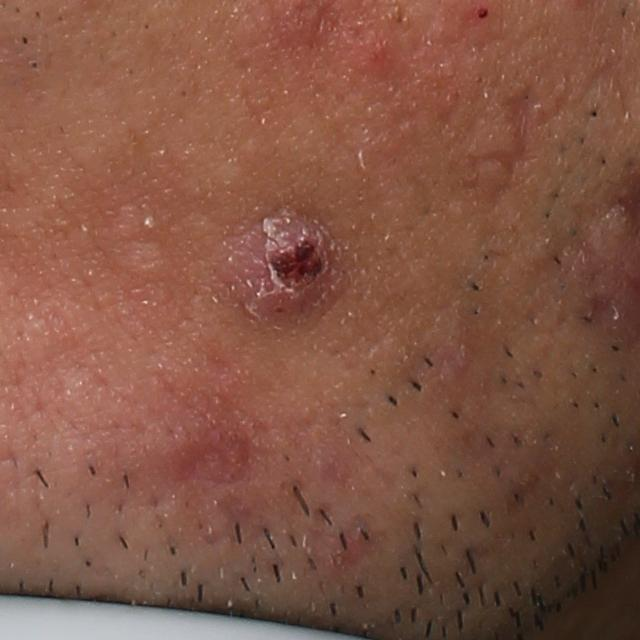atrophic_scar: (463, 86, 535, 190)
hypertrophic_scar: (112, 203, 179, 286)
papule: (232, 194, 346, 334), (353, 31, 403, 73)
